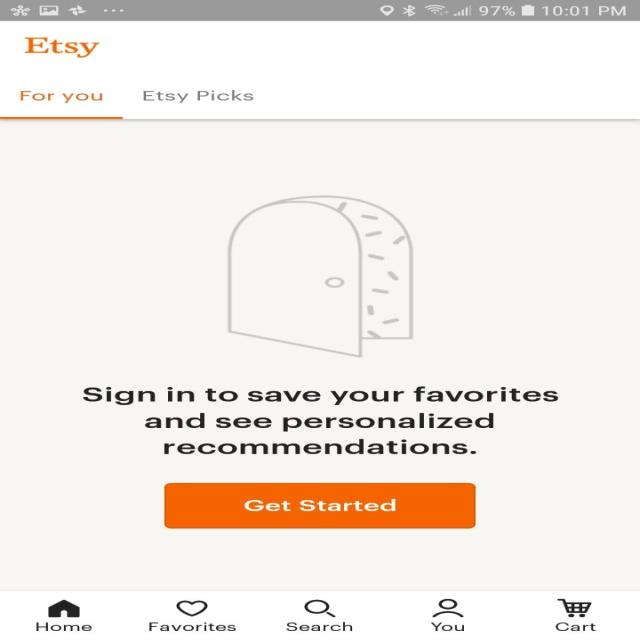Icon: (556, 598, 592, 617), (431, 598, 464, 617), (303, 599, 335, 617), (48, 599, 80, 617), (176, 599, 208, 616)
Image: (228, 194, 414, 358)
Text: (82, 386, 558, 454), (24, 37, 100, 58), (143, 89, 254, 103), (20, 90, 104, 104), (148, 621, 235, 631), (285, 621, 352, 630), (36, 622, 91, 631), (429, 621, 464, 631), (554, 622, 594, 630)
TextButton: (164, 482, 476, 528)
